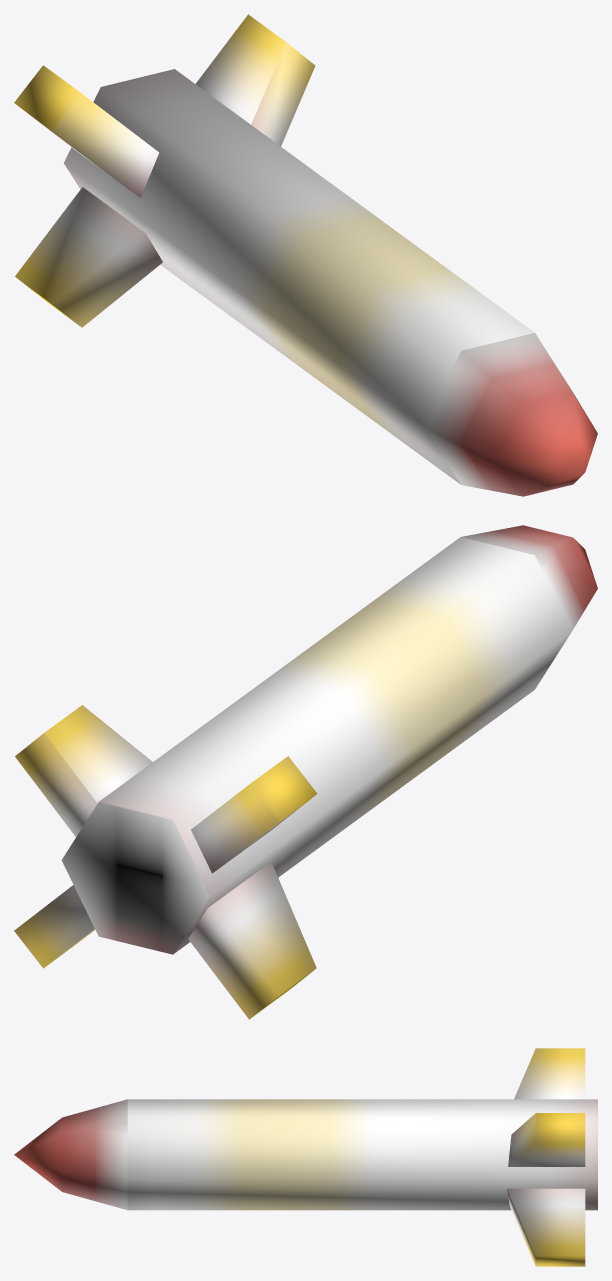
The model's file is Missile.FBX.
The picture shows the model from 3 angles, top to bottom: view 1: azimuth 30°, elevation 25°; view 2: azimuth 150°, elevation 25°; view 3: azimuth 270°, elevation 25°; orthographic projection. The views are drawn at different scales.
Visible parts, largest first — view 1: Missile; view 2: Missile; view 3: Missile.
Part boxes in pixels (x1=…): Missile: x1=14, y1=14, x2=597, y2=496; Missile: x1=14, y1=525, x2=597, y2=1019; Missile: x1=14, y1=1048, x2=597, y2=1266.
Bounding box in the file's own units: 6.54 × 5.58 × 19.19.
Materials: 1 (1 with a texture image).
